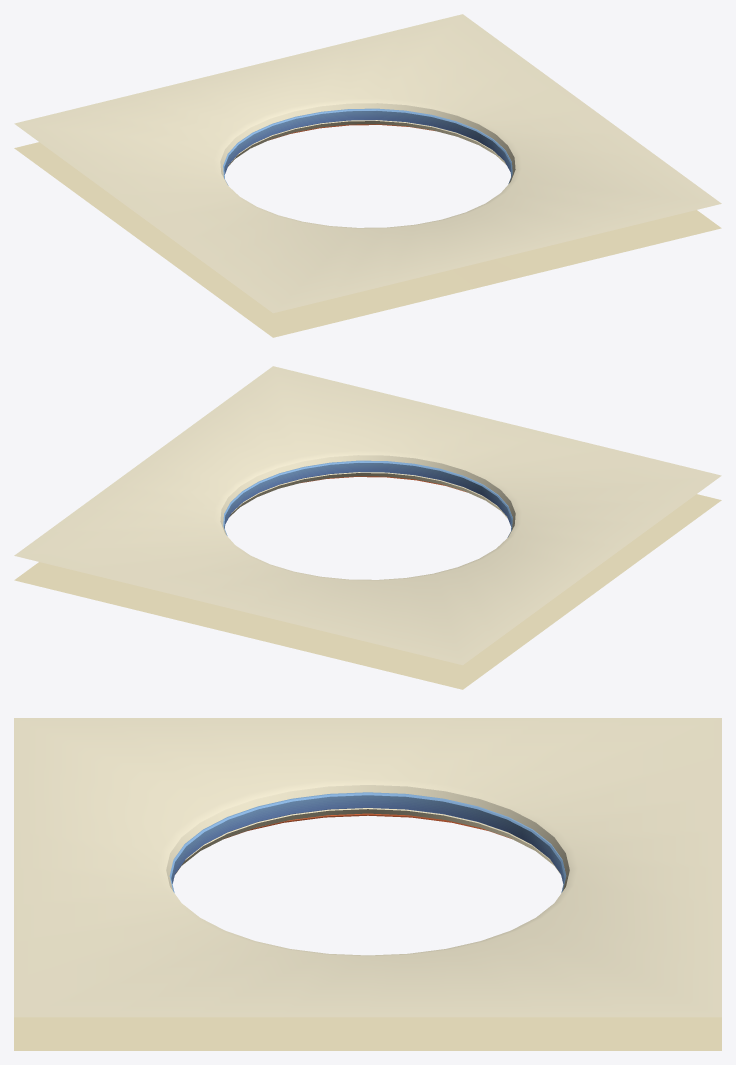
File: sm_futuristic_ceilinghole.fbx
3 renders of one model, top to bottom at view 1: azimuth 30°, elevation 25°; view 2: azimuth 150°, elevation 25°; view 3: azimuth 270°, elevation 25°, orthographic. The views are drawn at different scales.
Parts seen in each view (by area): view 1: sm_futuristic_ceilinghole; view 2: sm_futuristic_ceilinghole; view 3: sm_futuristic_ceilinghole.
Boxes of the visible parts, x1=… form: sm_futuristic_ceilinghole: x1=14, y1=14, x2=721, y2=337; sm_futuristic_ceilinghole: x1=14, y1=366, x2=721, y2=689; sm_futuristic_ceilinghole: x1=14, y1=718, x2=721, y2=1050.
Size of the model in its own units: 1903 by 1903 by 113.
